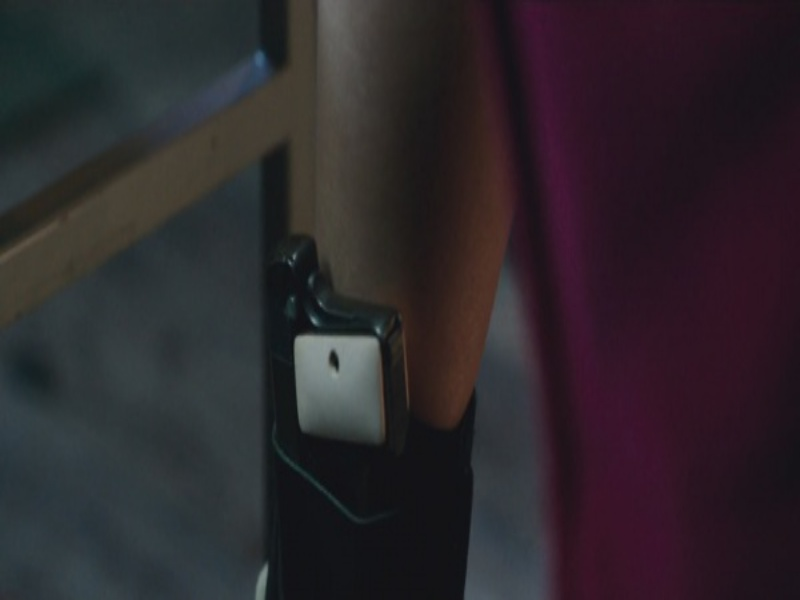weapon: (255, 230, 407, 502)
